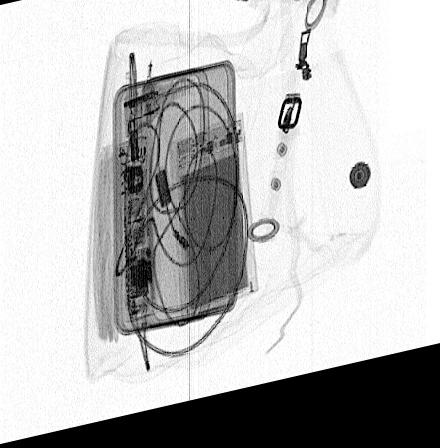Powerbank: (177, 120, 256, 325)
